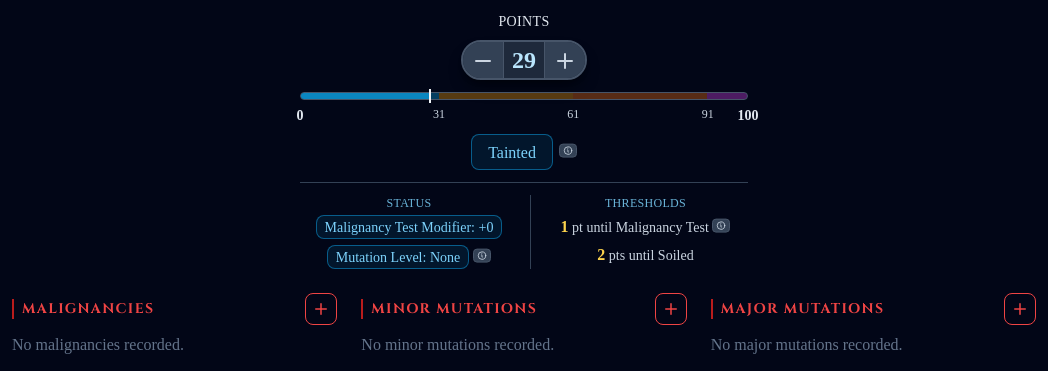
Test: CorruptionPanel points wiring › updates the degree shown when the stepper crosses into a new band
Expected: the text "Tainted" is shown, [471,134,553,170]
Step 1. Click the button named "Increase" → (565, 60), box [545,42,585,78]
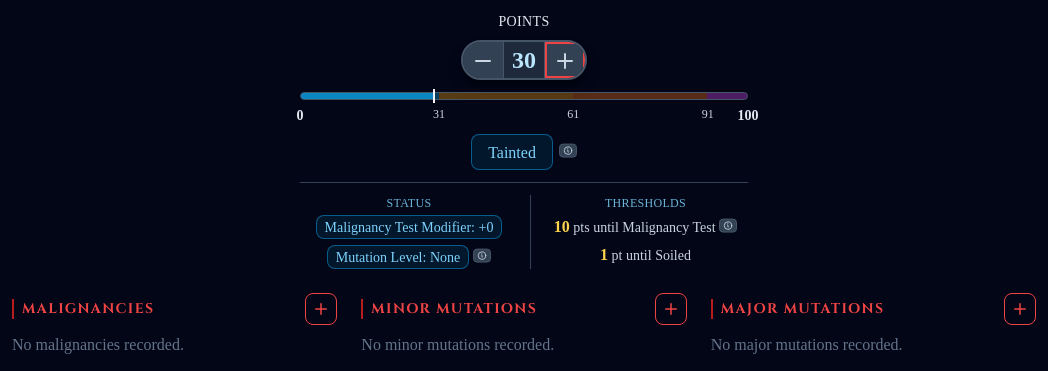
Step 2. Click the button named "Increase" → (565, 60), box [545,42,585,78]
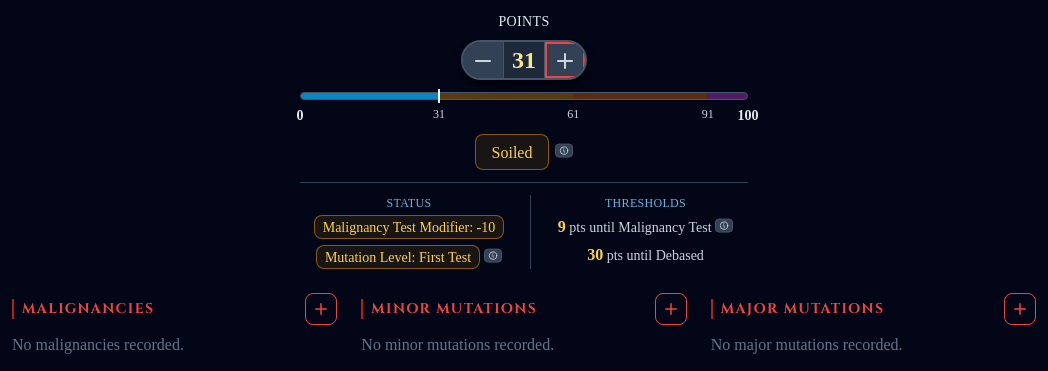
Result: the text "Soiled" is shown at [474,134,549,170]
Result: the text "Tainted" is gone
